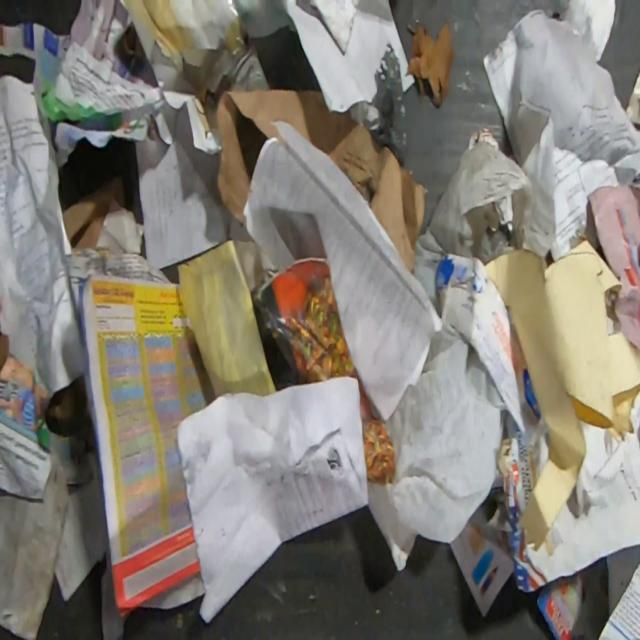cardboard: (433, 252, 551, 594)
